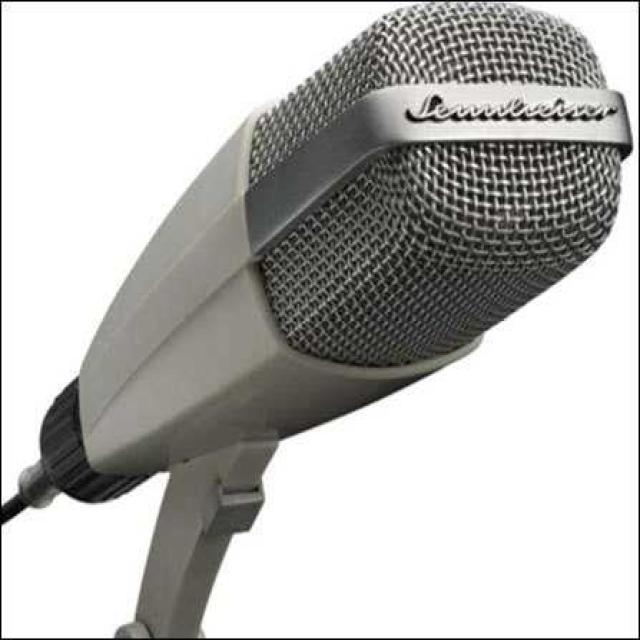microphone: (4, 4, 620, 521)
